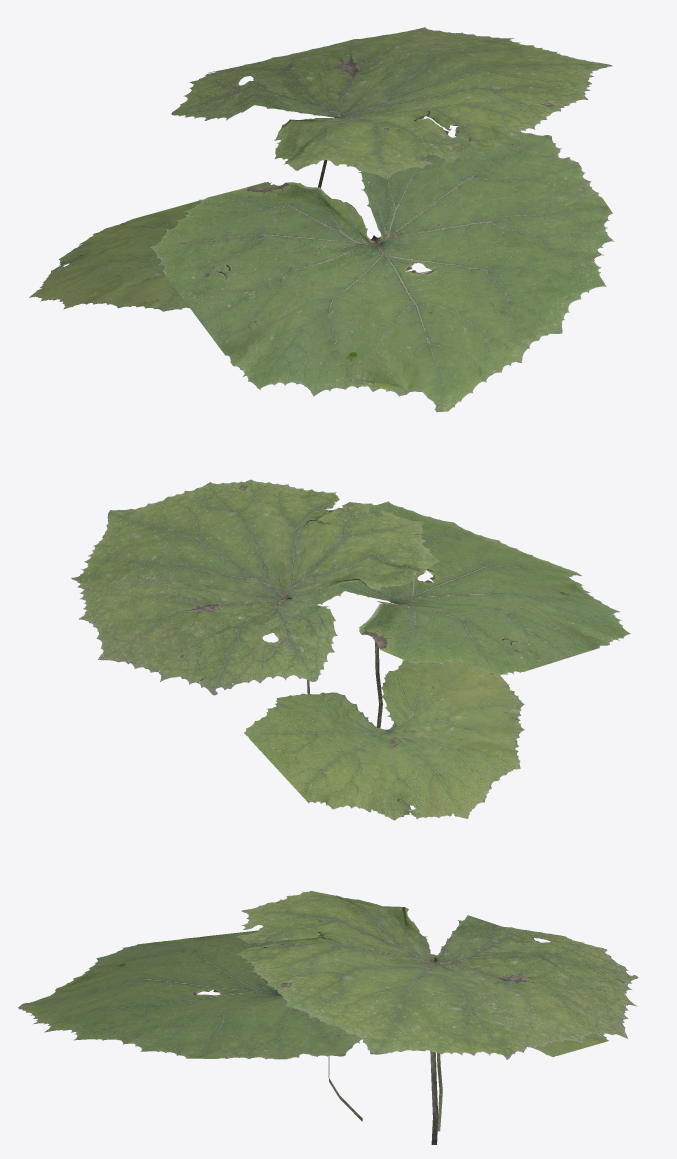
File: sm_Burdock_01_01.fbx
3 views of the same model, one above another, from view 1: azimuth 30°, elevation 25°; view 2: azimuth 150°, elevation 25°; view 3: azimuth 270°, elevation 25° (orthographic). The views are drawn at different scales.
Parts seen in each view (by area): view 1: sm_Burdock_01_01_LOD0; view 2: sm_Burdock_01_01_LOD0; view 3: sm_Burdock_01_01_LOD0.
Part boxes in pixels (x1,y1,x2,y2): sm_Burdock_01_01_LOD0: [29, 27, 614, 412]; sm_Burdock_01_01_LOD0: [71, 479, 630, 820]; sm_Burdock_01_01_LOD0: [18, 891, 638, 1144].
Bounding box in the file's own units: 104 × 112 × 44.6.
